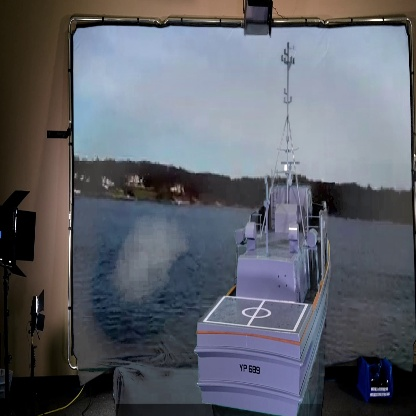YP689: (193, 42, 335, 416)
